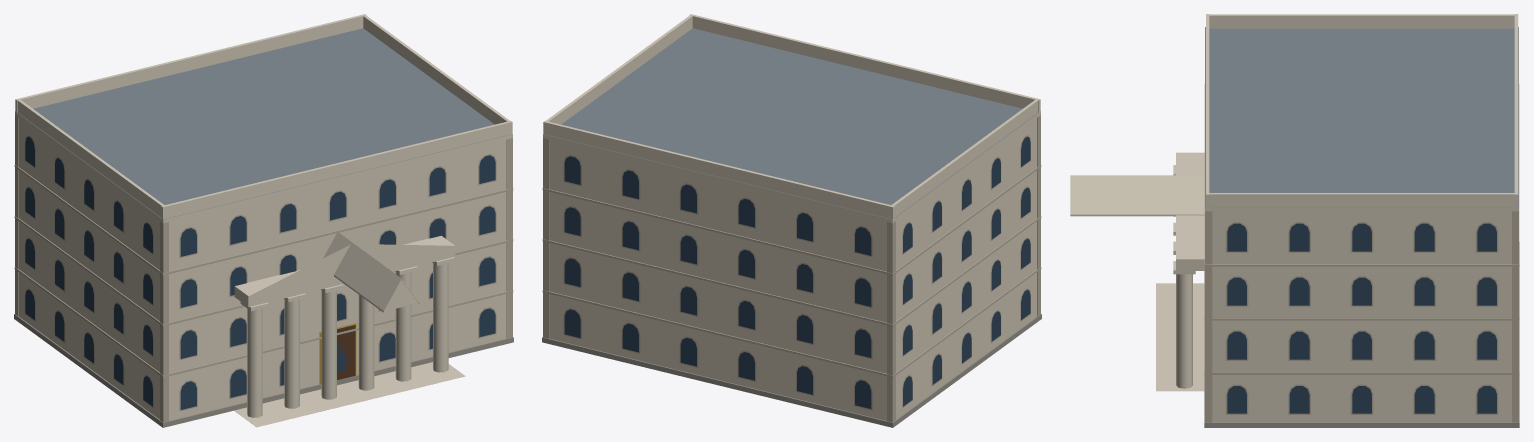
Rendered from banque_classique.glb.
3 views of the same model, side by side, from view 1: azimuth 30°, elevation 25°; view 2: azimuth 150°, elevation 25°; view 3: azimuth 270°, elevation 25° (orthographic). The views are drawn at different scales.
Parts seen in each view (by area): view 1: banque_classique; view 2: banque_classique; view 3: banque_classique.
Boxes of the visible parts, x1,y1,x2,y2 form: banque_classique: (14, 14, 513, 427); banque_classique: (542, 14, 1041, 427); banque_classique: (1070, 14, 1519, 427).
Size of the model in its own units: 30.2 by 18.1 by 31.65.
Materials: 1 (1 with a texture image).
